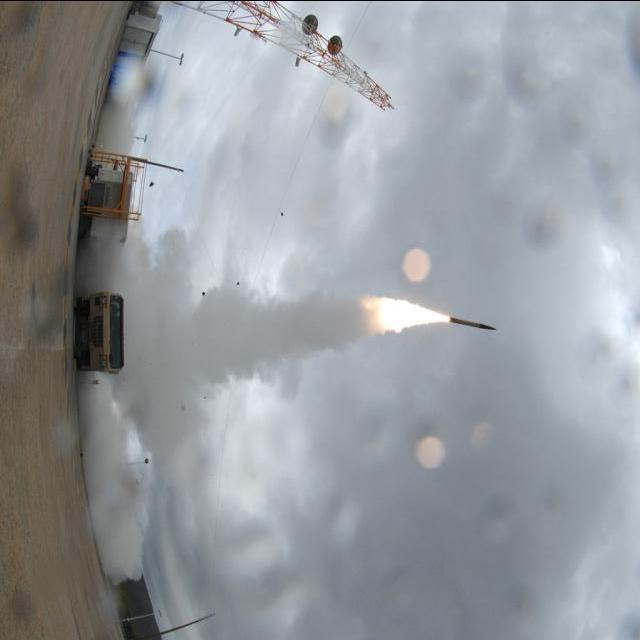missile: (448, 312, 498, 334)
